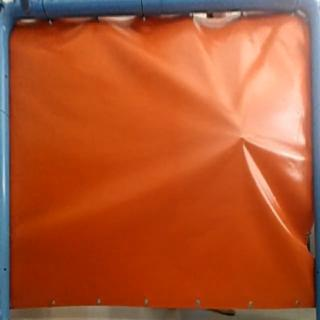Hit-hRxx: (234, 132, 249, 144)
